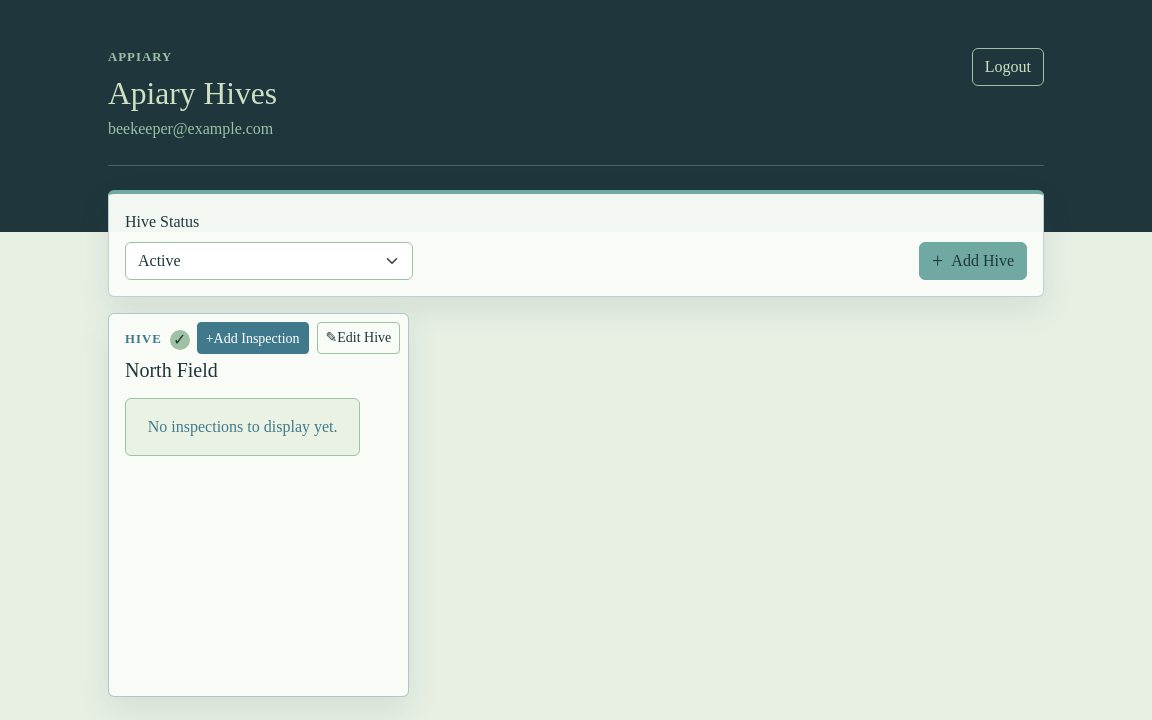
it: HivesDashboardComponent › shows only inactive hives when Inactive is selected
The width and height of the screenshot is (1152, 720).
Select "Inactive" in the dropdown with id "hive-status-filter" at (269, 261), box [125,242,413,280]
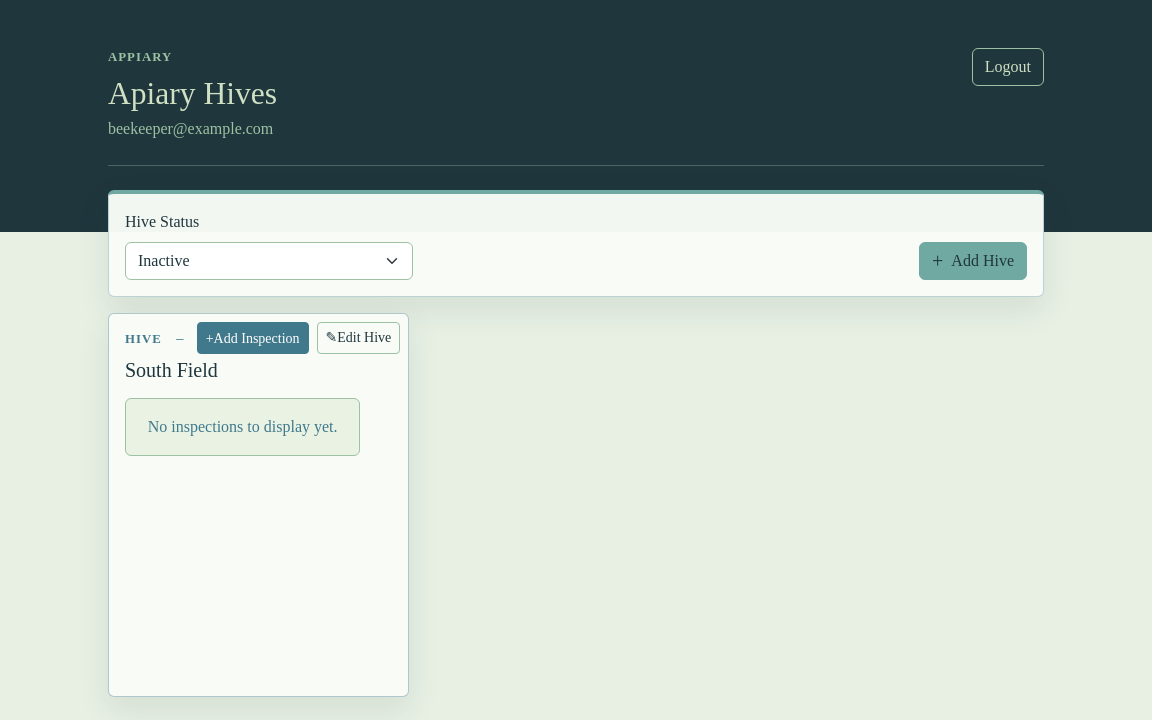
Expected: the element with test id "hive-card-hive-2" is shown, [108,313,409,697]
Expected: the element with test id "hive-card-hive-1" is gone
